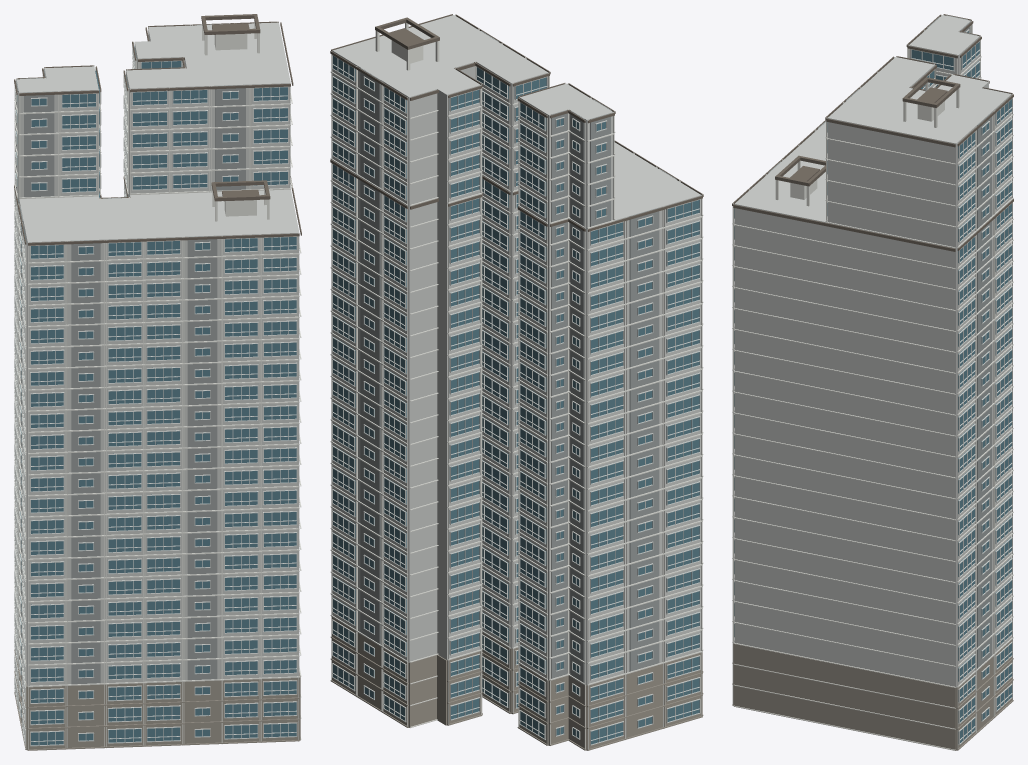
File: bespoke-banpo-xi-118.glb
The picture shows the model from 3 angles, left to right: view 1: azimuth 30°, elevation 25°; view 2: azimuth 150°, elevation 25°; view 3: azimuth 270°, elevation 25°; orthographic projection. The views are drawn at different scales.
Parts seen in each view (by area): view 1: editable_BX118_pale_silver_limestone, editable_BX118_blue_grey_broad_glazing, editable_BX118_white_window_frames, editable_BX118_ivory_course_bands, editable_BX118_grey_service_core, editable_BX118_warm_ground_stone, editable_BX118_dark_coping; view 2: editable_BX118_pale_silver_limestone, editable_BX118_blue_grey_broad_glazing, editable_BX118_white_window_frames, editable_BX118_ivory_course_bands, editable_BX118_grey_service_core, editable_BX118_warm_ground_stone, editable_BX118_dark_coping; view 3: editable_BX118_pale_silver_limestone, editable_BX118_ivory_course_bands, editable_BX118_warm_ground_stone, editable_BX118_blue_grey_broad_glazing, editable_BX118_white_window_frames, editable_BX118_grey_service_core, editable_BX118_dark_coping.
Boxes of the visible parts, box(x1,y1,x2,y2) form: editable_BX118_pale_silver_limestone: box(16, 22, 299, 686); editable_BX118_blue_grey_broad_glazing: box(16, 46, 296, 745); editable_BX118_white_window_frames: box(14, 46, 297, 746); editable_BX118_ivory_course_bands: box(14, 21, 301, 750); editable_BX118_grey_service_core: box(15, 23, 245, 684); editable_BX118_warm_ground_stone: box(14, 649, 300, 750); editable_BX118_dark_coping: box(14, 14, 301, 245); editable_BX118_pale_silver_limestone: box(332, 15, 701, 745); editable_BX118_blue_grey_broad_glazing: box(333, 56, 699, 744); editable_BX118_white_window_frames: box(332, 55, 700, 745); editable_BX118_ivory_course_bands: box(330, 14, 703, 750); editable_BX118_grey_service_core: box(360, 31, 676, 683); editable_BX118_warm_ground_stone: box(330, 617, 703, 750); editable_BX118_dark_coping: box(330, 14, 703, 231); editable_BX118_pale_silver_limestone: box(734, 15, 1011, 687); editable_BX118_ivory_course_bands: box(732, 14, 1013, 750); editable_BX118_warm_ground_stone: box(732, 640, 1013, 750); editable_BX118_blue_grey_broad_glazing: box(734, 31, 1011, 743); editable_BX118_white_window_frames: box(734, 29, 1012, 745); editable_BX118_grey_service_core: box(768, 15, 991, 668); editable_BX118_dark_coping: box(732, 14, 1013, 251).
Bounding box in the file's own units: 41.28 × 81.3 × 32.95.
